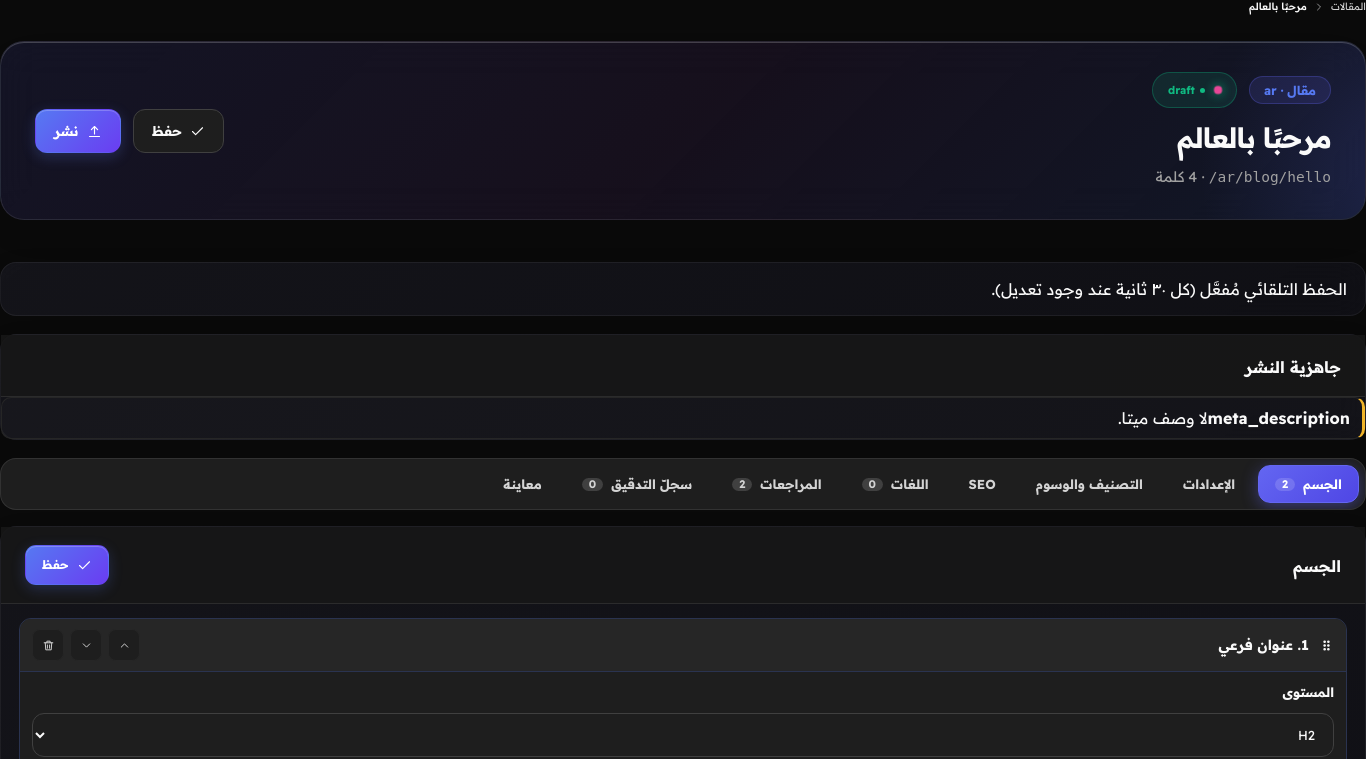
BlogPostEditor › autosave revisions are labelled so they cannot be mistaken for checkpoints
Click the tab "المراجعات 2". click: (777,484)
box: [715,465,839,503]
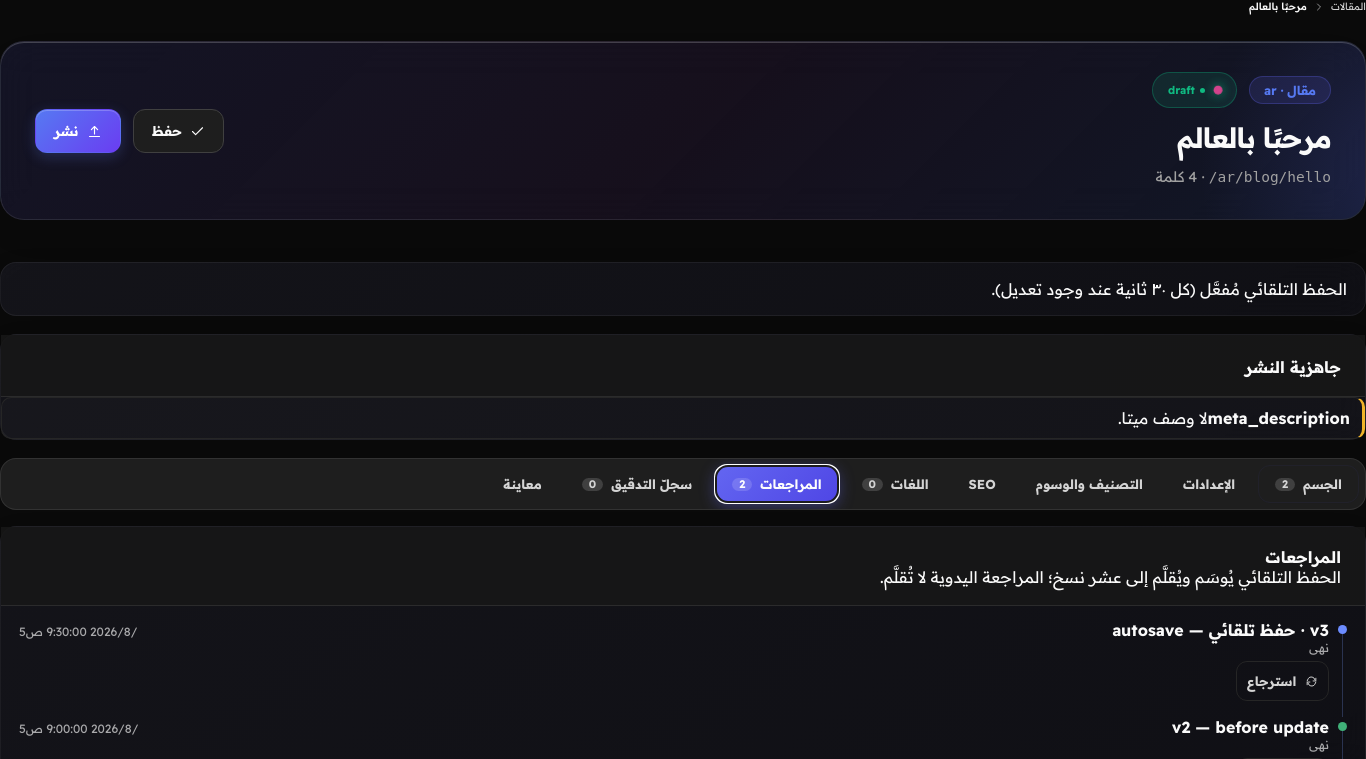
Check: the text "v3 · حفظ تلقائي — autosave" is shown, box [1112,620,1329,640]
Check: the text "v2 — before update" is shown, box [1172,717,1329,737]
